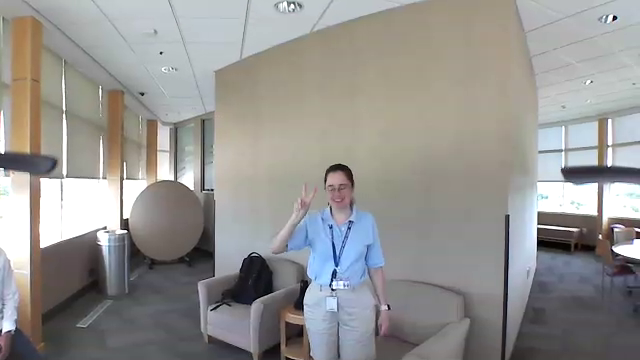peace: (288, 179, 321, 230)
